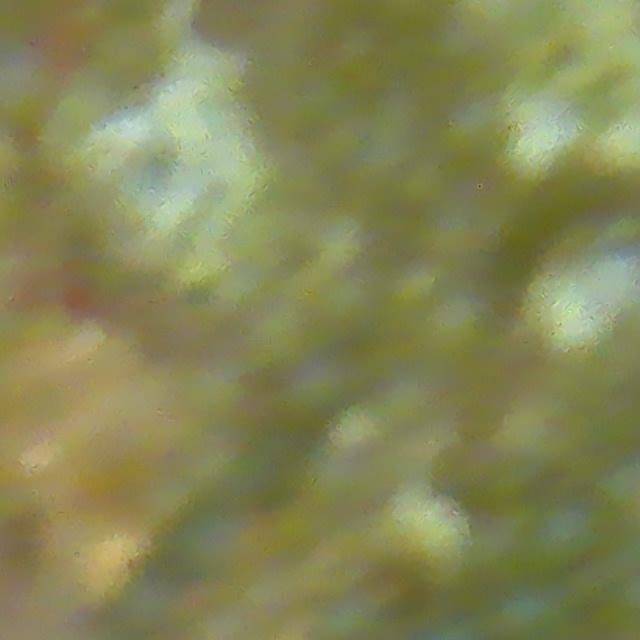SeaGrape: (529, 501, 619, 571), (488, 577, 573, 640), (318, 279, 390, 344)
